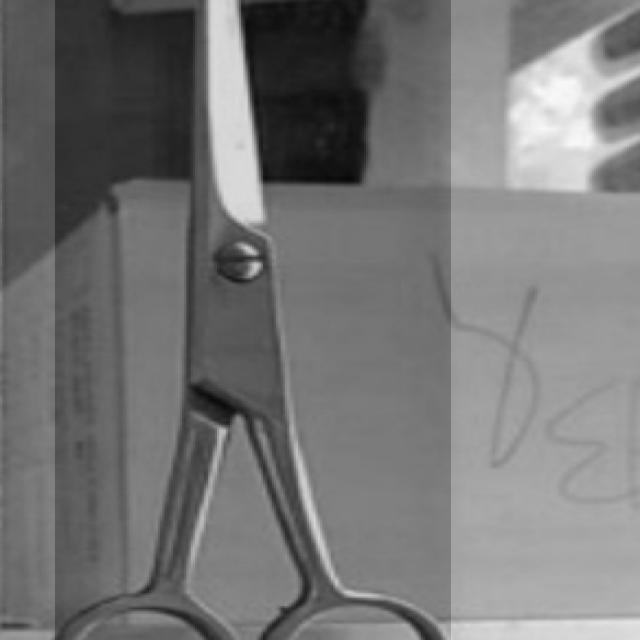tesoura: (55, 0, 451, 639)
